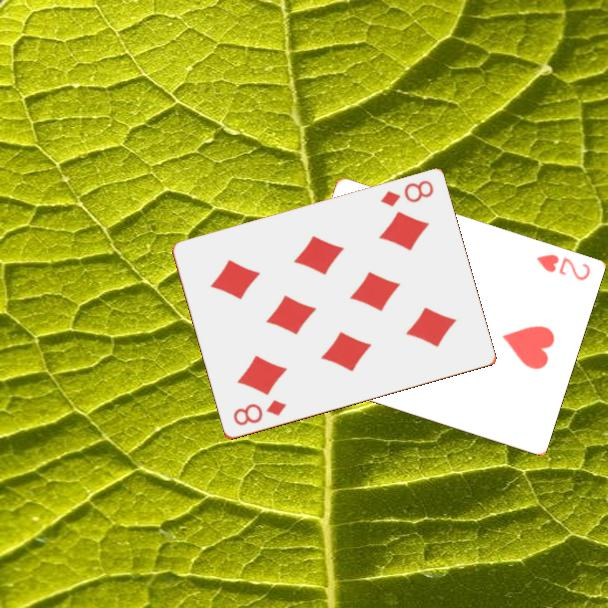d08: (376, 177, 436, 210), (229, 397, 289, 429)
h02: (532, 251, 593, 284)
